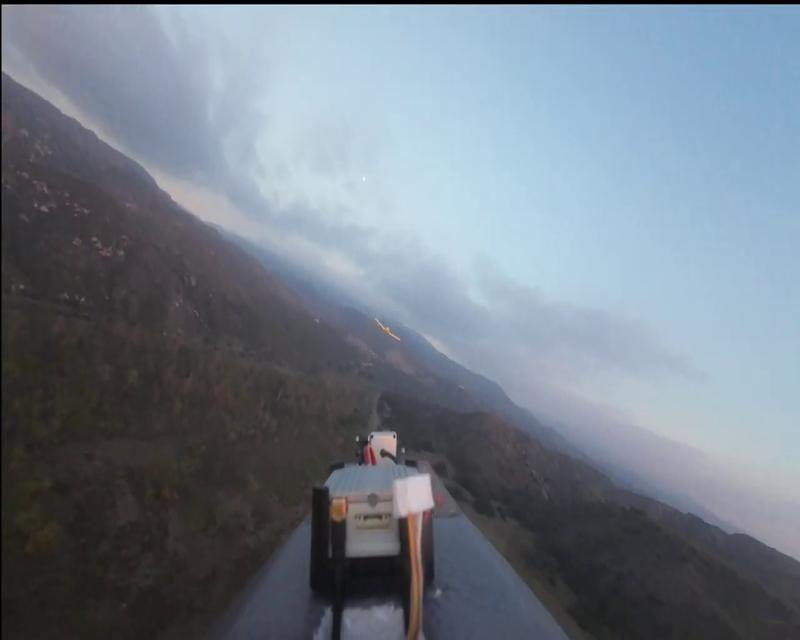UAV: (375, 318, 401, 342)
